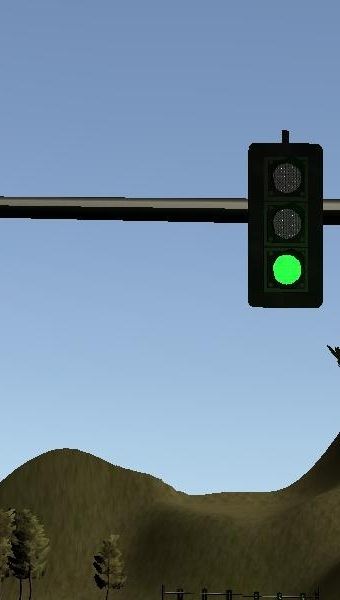Green: (245, 140, 324, 310)
